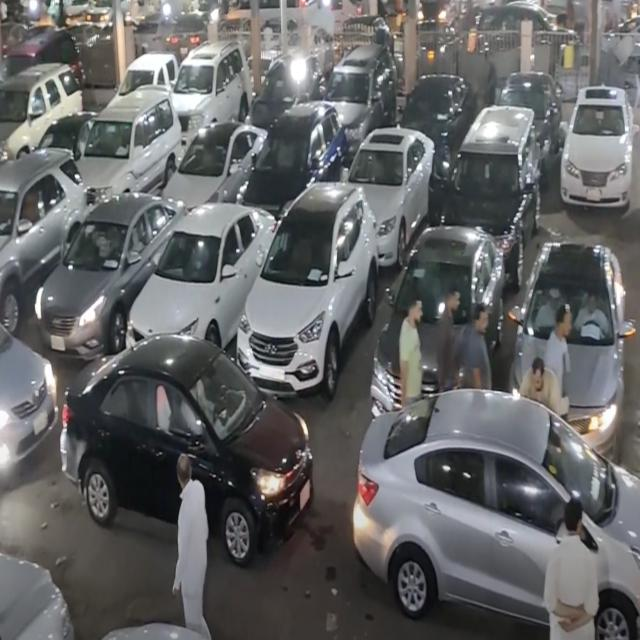license_plate: (259, 364, 284, 382), (298, 480, 310, 515), (33, 410, 48, 437), (50, 335, 65, 352), (586, 189, 601, 202)
